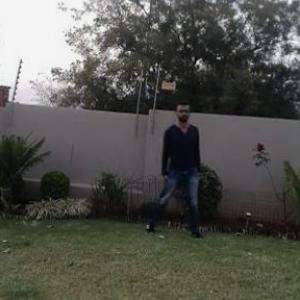follow: (148, 99, 195, 246)
